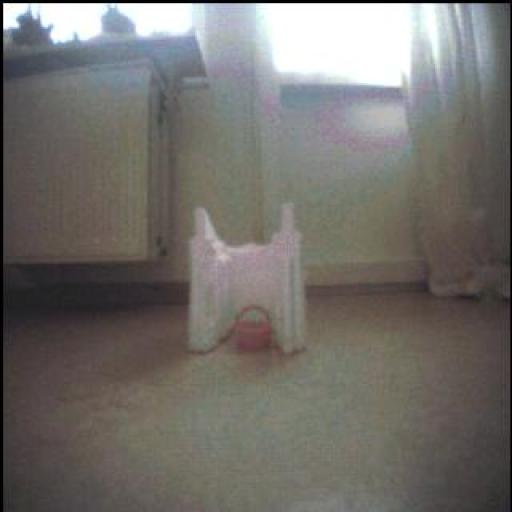Basket: (233, 307, 273, 353)
